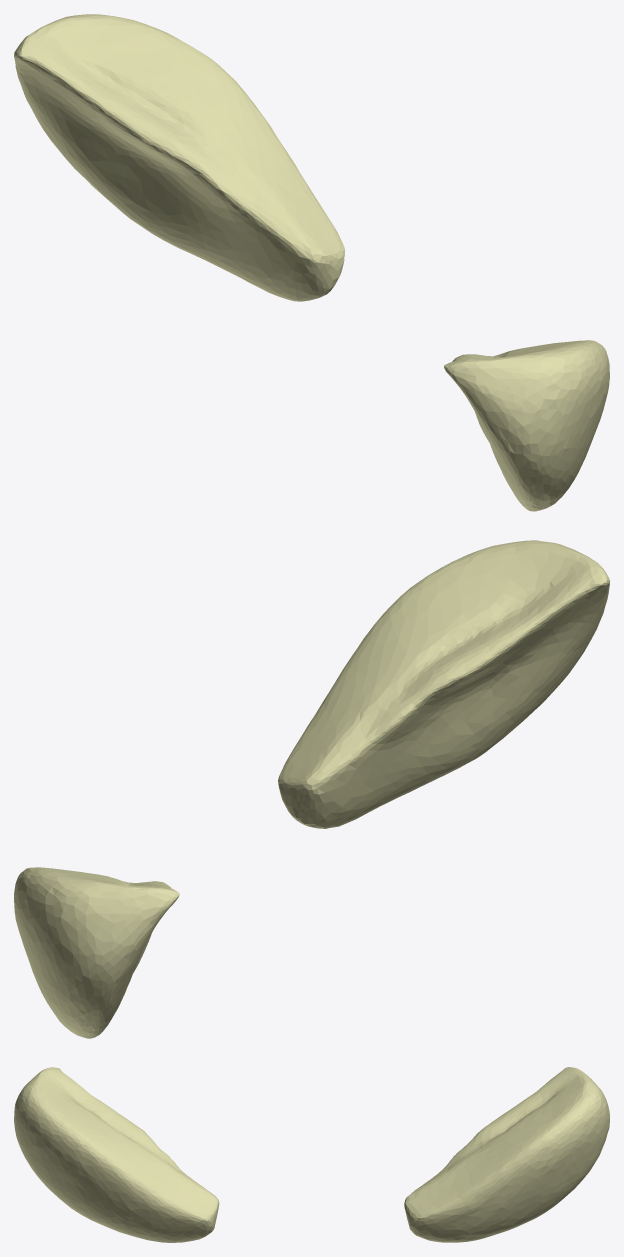
3 renders of one model, top to bottom at view 1: azimuth 30°, elevation 25°; view 2: azimuth 150°, elevation 25°; view 3: azimuth 270°, elevation 25°, orthographic. The views are drawn at different scales.
Visible parts, largest first — view 1: 1064.obj; view 2: 1064.obj; view 3: 1064.obj.
Boxes of the visible parts, box(x1,y1,x2,y2) form: 1064.obj: box(14, 14, 609, 511); 1064.obj: box(14, 540, 609, 1038); 1064.obj: box(14, 1067, 609, 1242).
Bounding box in the file's own units: 1986 × 2005 × 8251.
